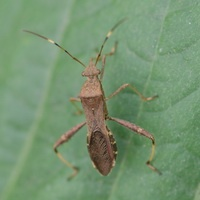insect: (23, 17, 161, 178)
